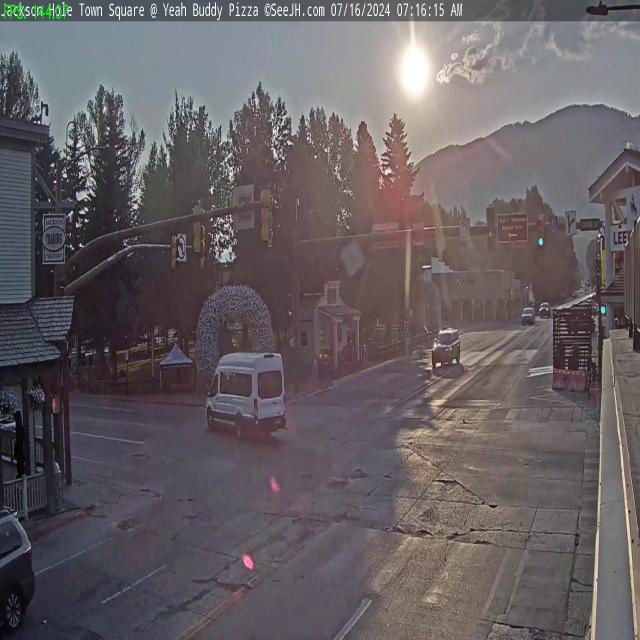suv: (0, 504, 35, 630), (431, 326, 460, 370), (520, 306, 534, 326)
traffic light: (170, 232, 187, 270), (260, 188, 271, 243), (192, 202, 202, 254), (536, 215, 544, 247), (170, 235, 177, 270), (596, 256, 601, 279)
van: (205, 350, 286, 440)
